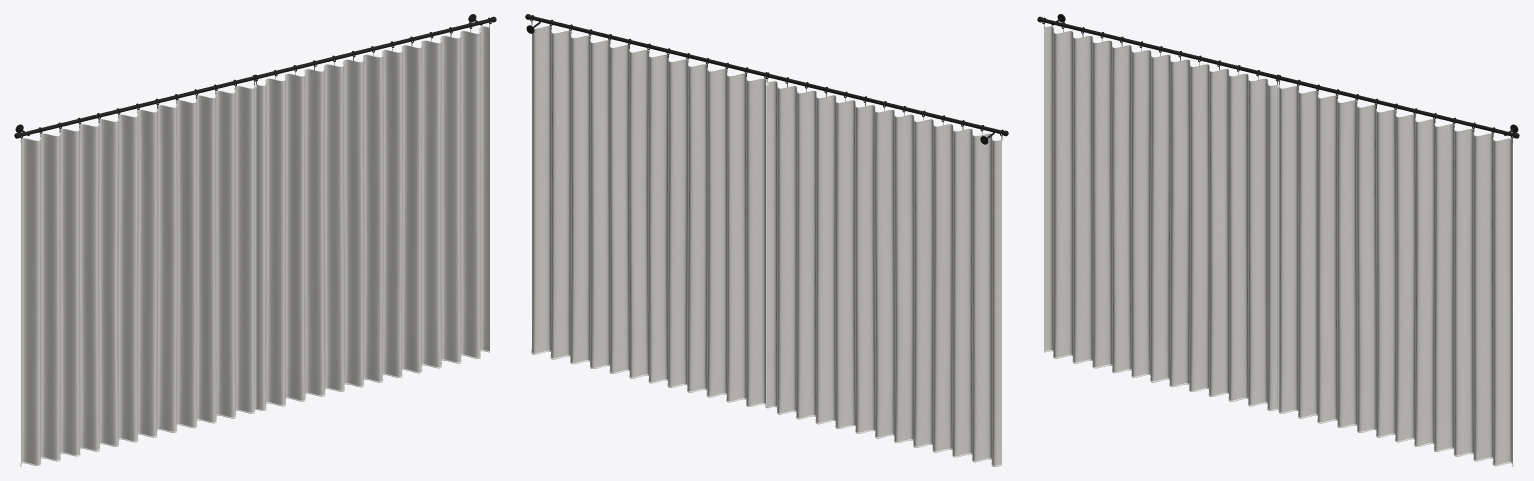
The model's file is cortina_onda_360_c100.glb.
3 views of the same model, side by side, from view 1: azimuth 30°, elevation 25°; view 2: azimuth 150°, elevation 25°; view 3: azimuth 330°, elevation 25° (orthographic).
Parts seen in each view (by area): view 1: cortina_onda_360_c100; view 2: cortina_onda_360_c100; view 3: cortina_onda_360_c100.
Part boxes in pixels (x1,y1,x2,y2): cortina_onda_360_c100: (14, 14, 496, 466); cortina_onda_360_c100: (525, 14, 1008, 466); cortina_onda_360_c100: (1037, 14, 1519, 466).
Bounding box in the file's own units: 3.6 × 2.39 × 0.1784.
2 materials, 1 textured.
